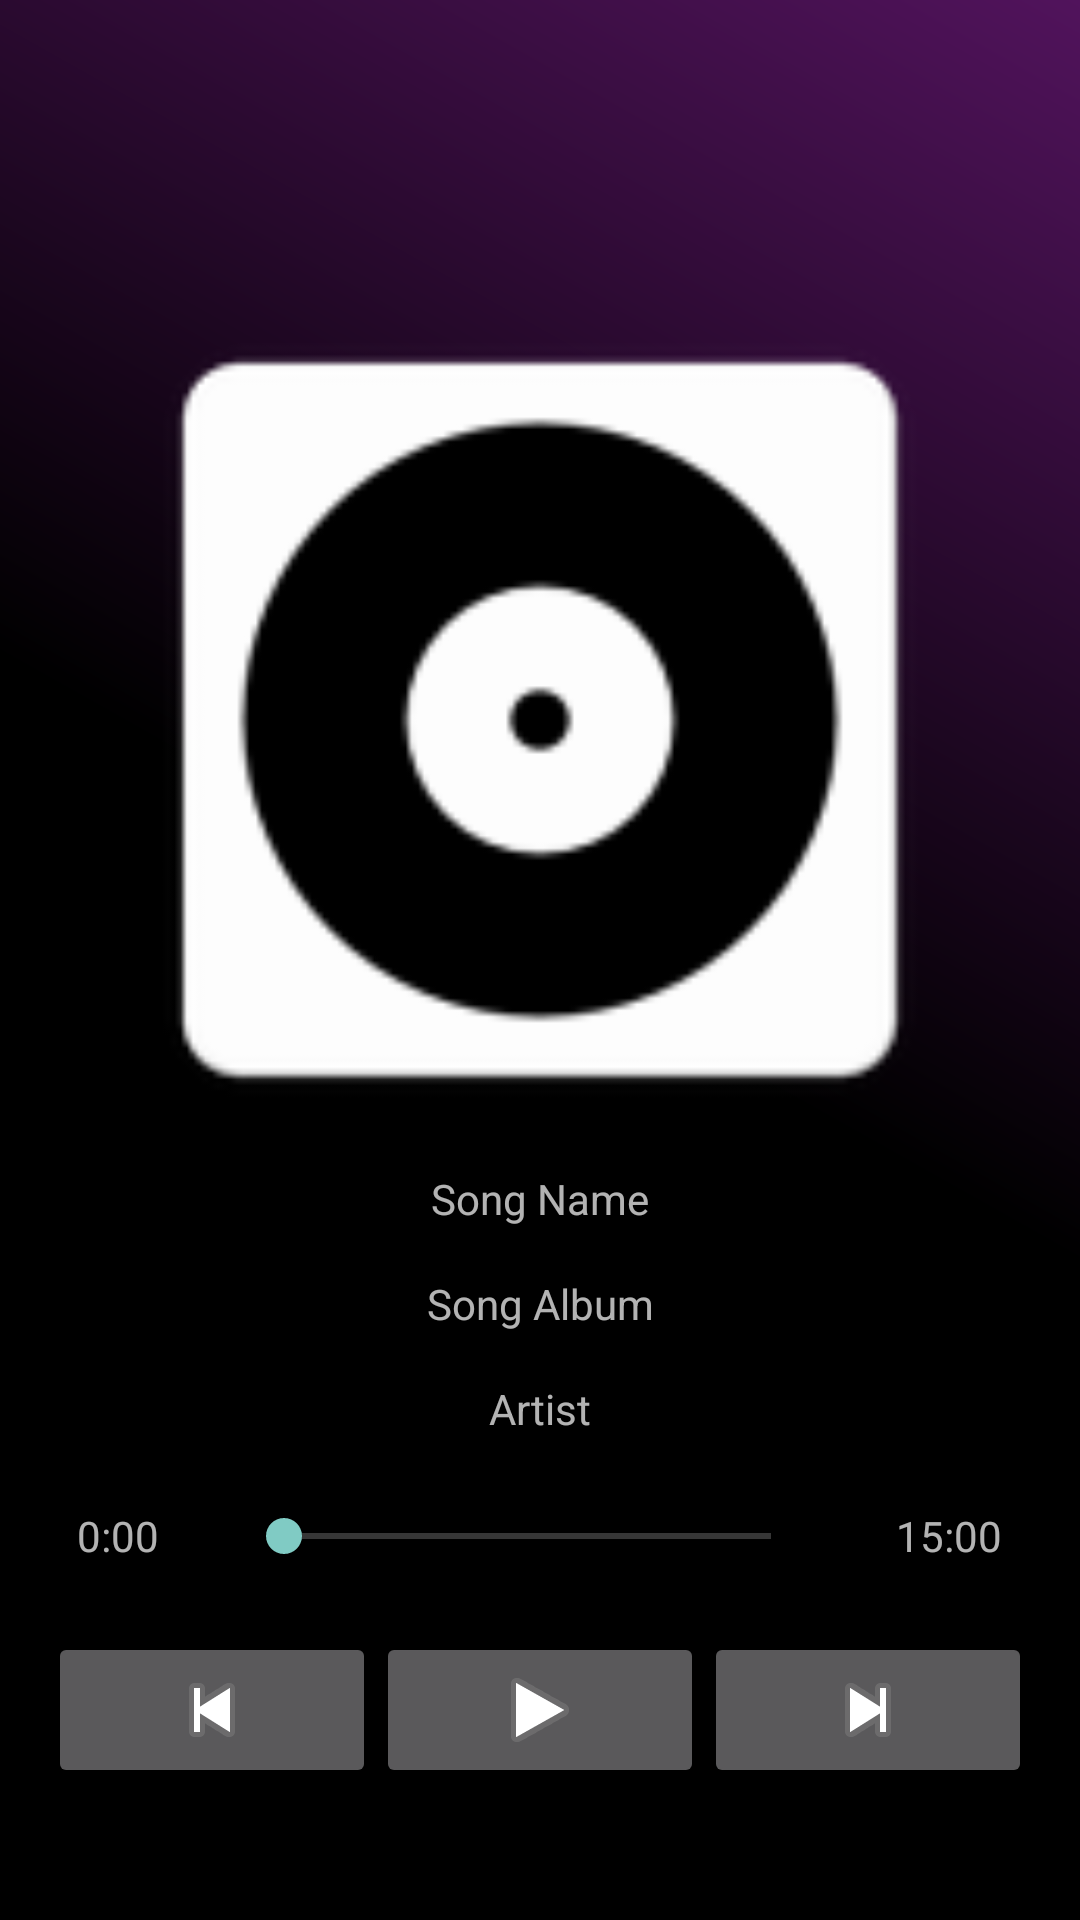

Icon bounding boxes for this 1080x1920 phone screenshot, format {"left": x1, "top": y1, "right": x2, "bottom": y2}:
next: {"left": 716, "top": 1650, "right": 1020, "bottom": 1770}
play: {"left": 388, "top": 1650, "right": 692, "bottom": 1770}
previous: {"left": 60, "top": 1650, "right": 364, "bottom": 1770}
